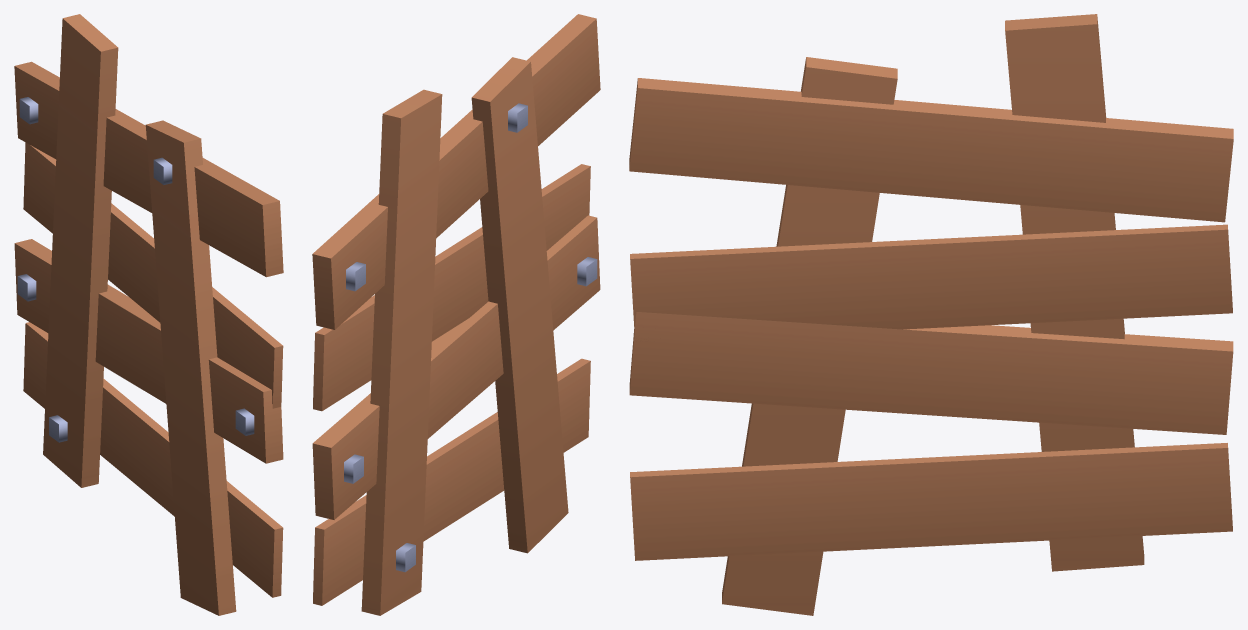
File: building_barricade_window_c.glb
3 renders of one model, left to right at view 1: azimuth 30°, elevation 25°; view 2: azimuth 150°, elevation 25°; view 3: azimuth 270°, elevation 25°, orthographic. The views are drawn at different scales.
Parts seen in each view (by area): view 1: barricade-window-c; view 2: barricade-window-c; view 3: barricade-window-c.
Part boxes in pixels (left/top/right/bottom): barricade-window-c: left=14, top=14, right=283, bottom=615; barricade-window-c: left=312, top=14, right=600, bottom=615; barricade-window-c: left=629, top=14, right=1233, bottom=615.
Bounding box in the file's own units: 0.1 × 1.36 × 1.26.
Materials: 1 (1 with a texture image).
